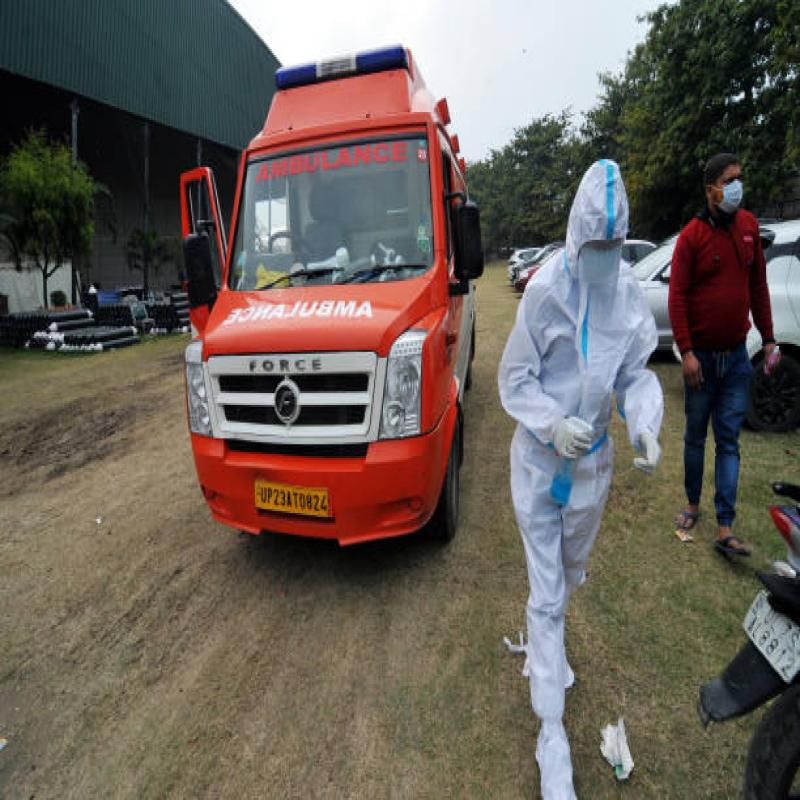ambulance: (167, 25, 488, 584)
